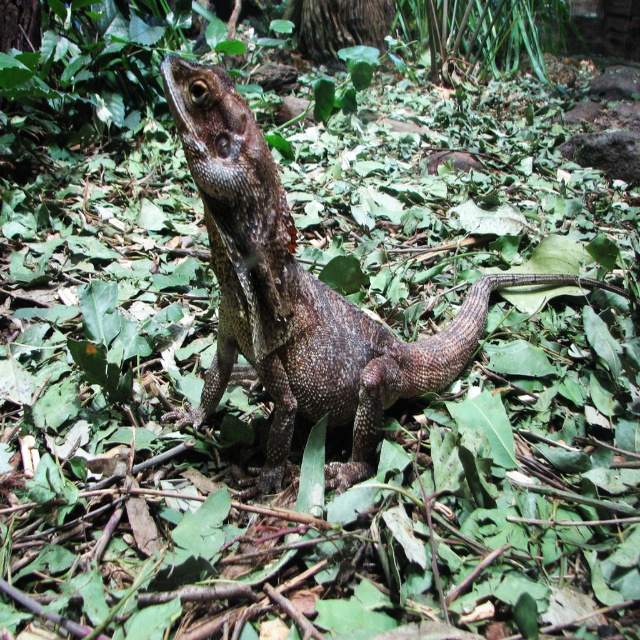Lizard: (160, 52, 640, 505)
